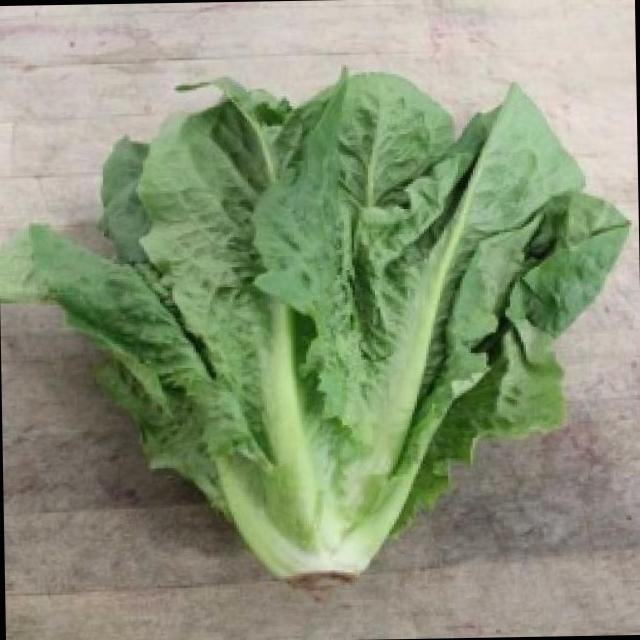Lettuce-Ready-to-Harvest: (21, 72, 628, 577)
